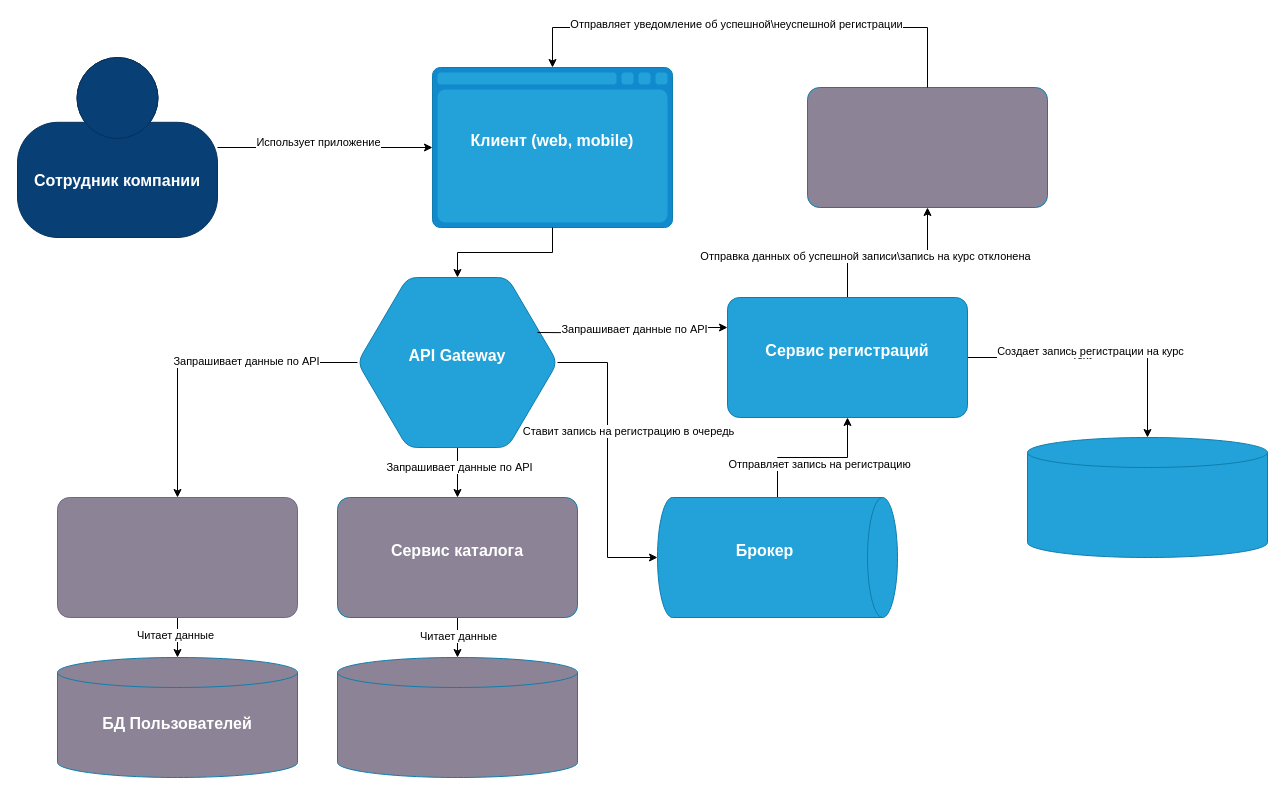
Some shapes in this 1285 by 795 pixel diagram are drawn without their labels. Each missing label, with the centre of its shape:
БД курсов: (x=457, y=717)
БД Регистраций на курсы: (x=1147, y=497)
Сервис пользователей: (x=177, y=557)
Сервис уведомлений: (x=927, y=147)
